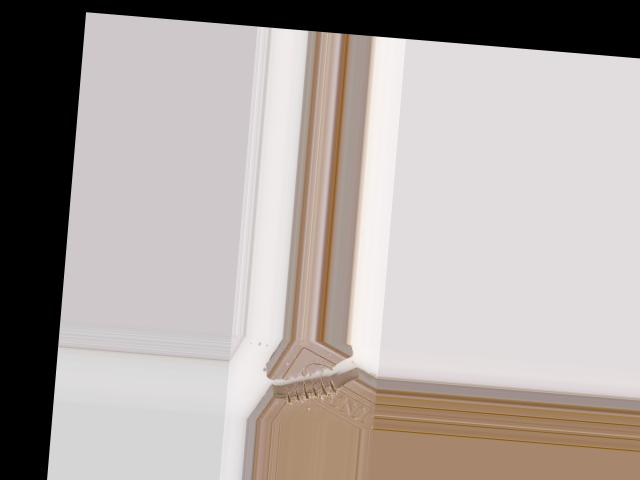chocolate: (246, 335, 379, 427)
